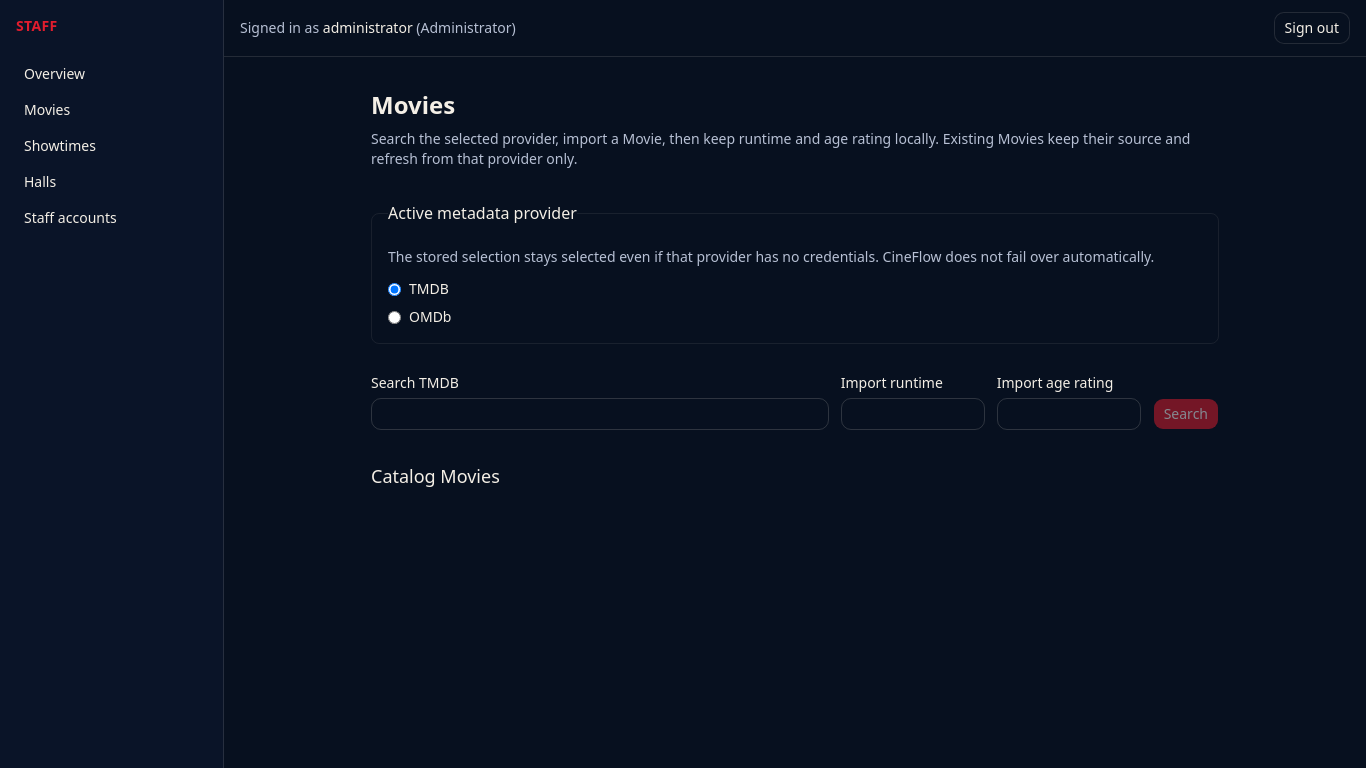
Test: AdminMoviesPage › clears search results when the Administrator selects a different provider
Type "courier gate" into the field labelled "Search TMDB".
click(600, 414); type("courier gate")  # box 371,398 -> 829,430
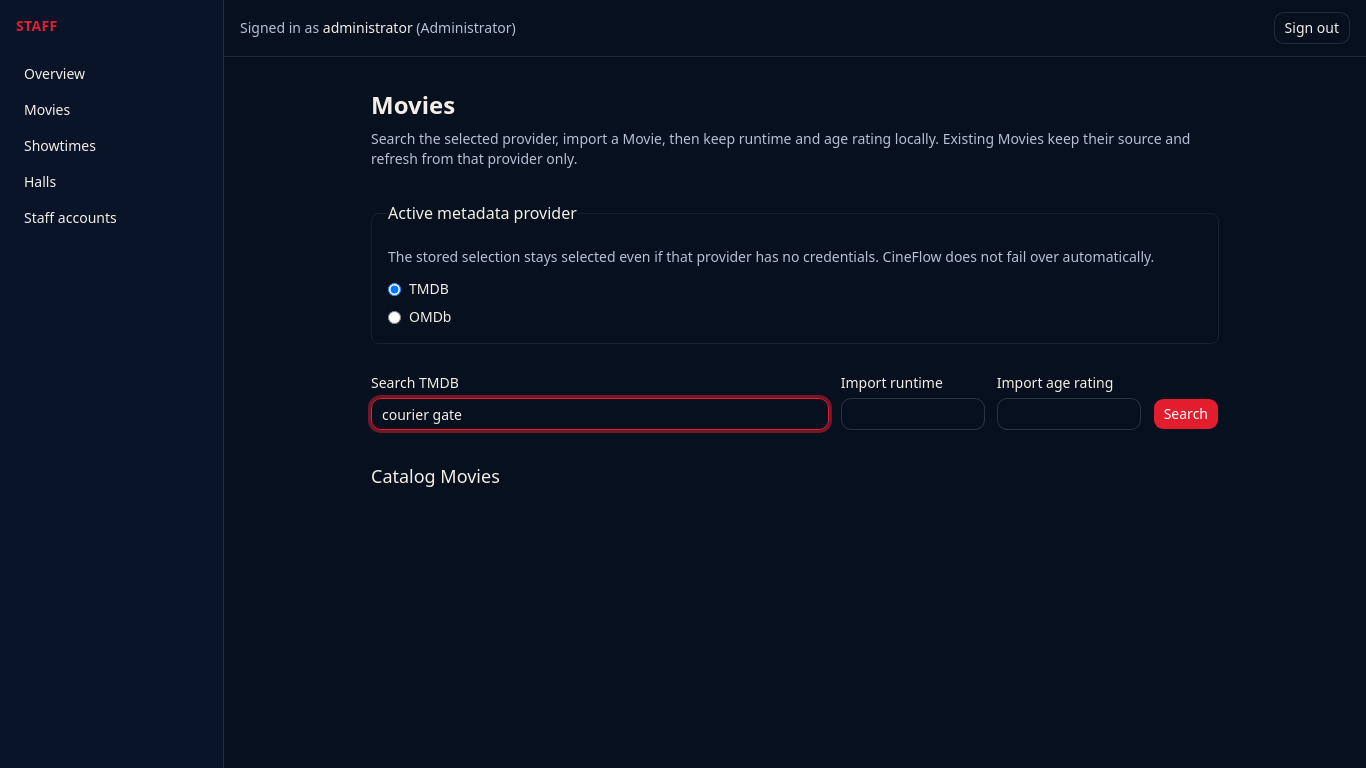
Expected: the button "Search" is enabled
Click the button "Search".
click(1186, 414)  # box 1153,398 -> 1219,430
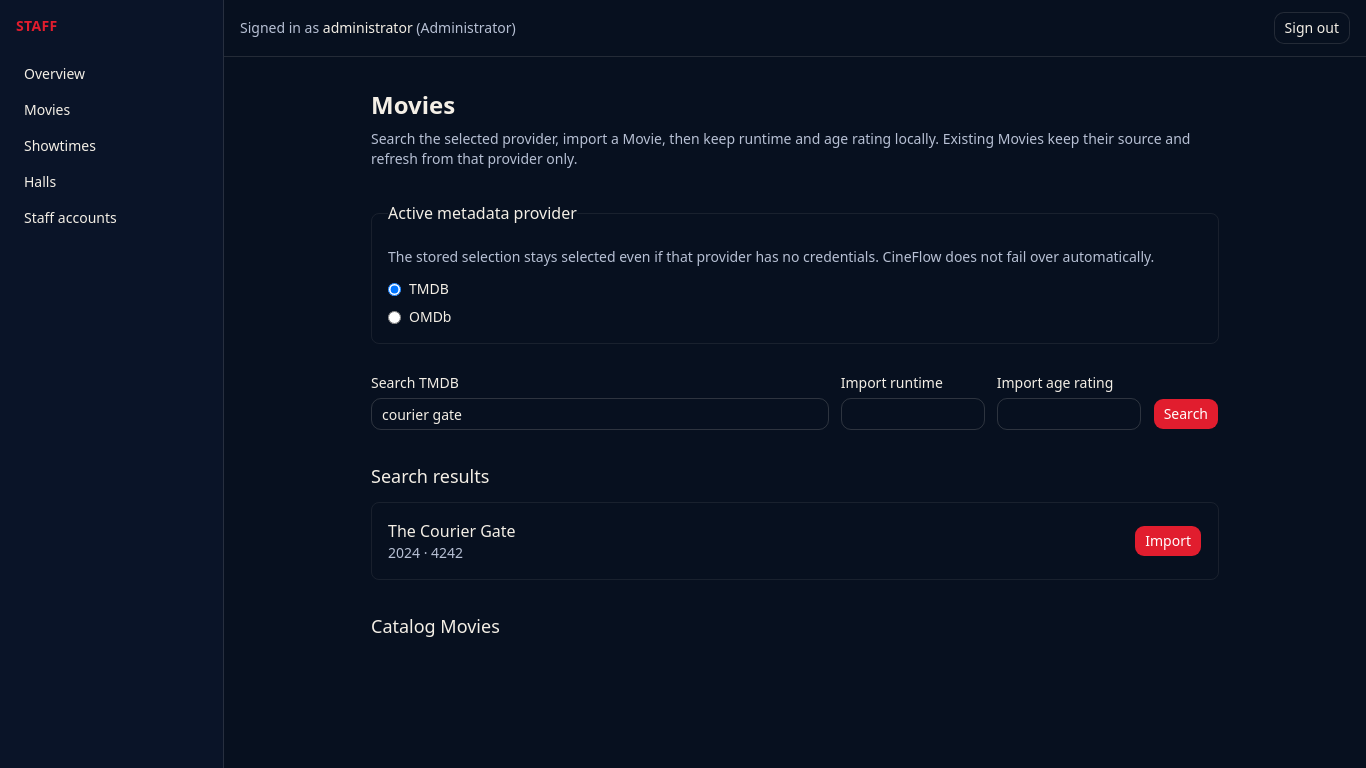
Expected: the button "Import" is shown, 1134,525 -> 1202,557
Click the radio button labelled "OMDb".
click(394, 317)  # box 388,310 -> 401,324
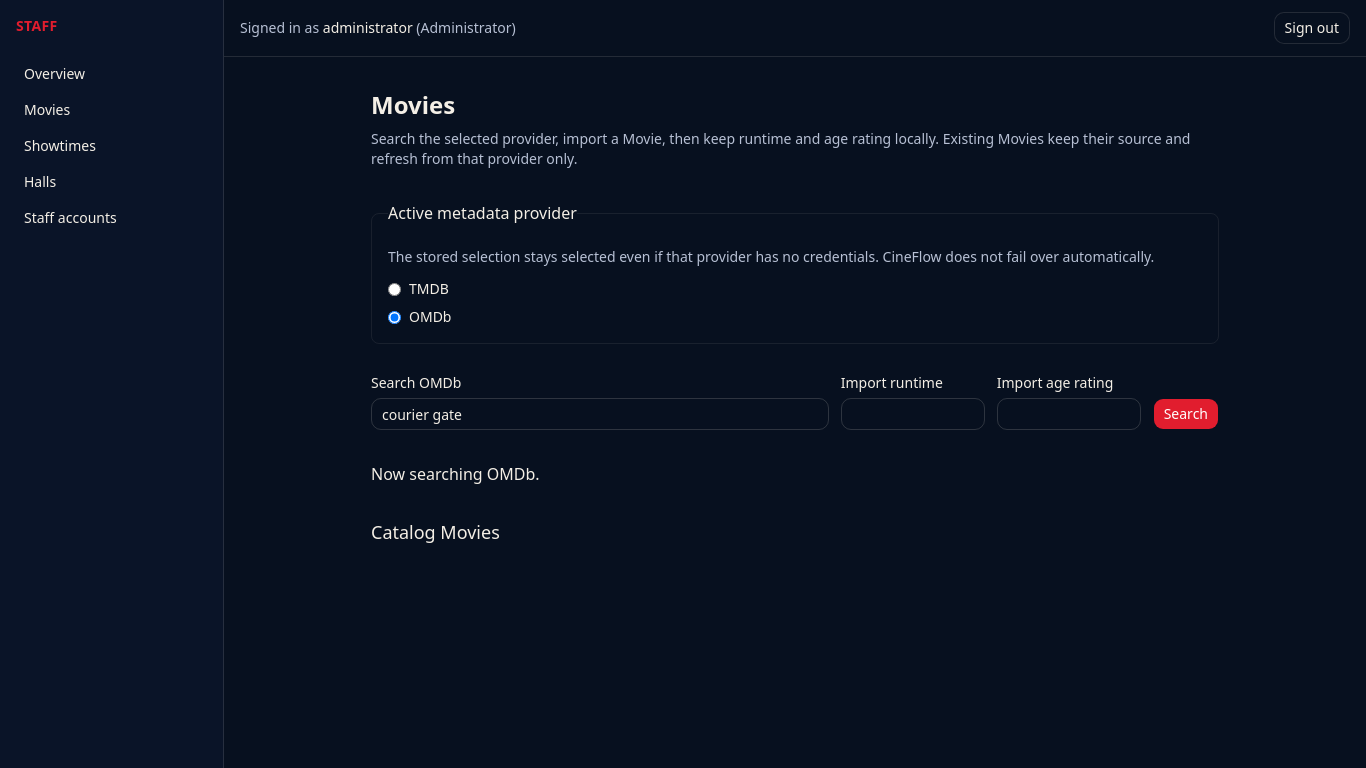
Expected: the message reads "Now searching OMDb.", 371,463 -> 540,485
